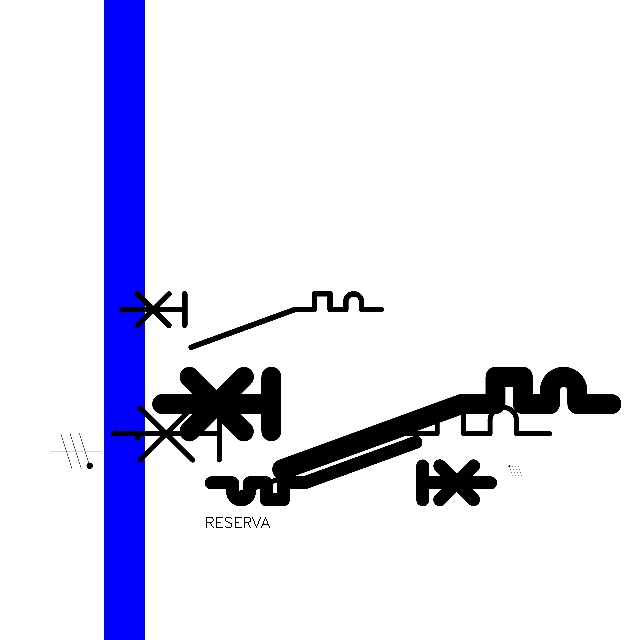interruptor_termomagnetico: (150, 365, 623, 480), (101, 396, 560, 508), (204, 435, 498, 507), (115, 287, 388, 353)
